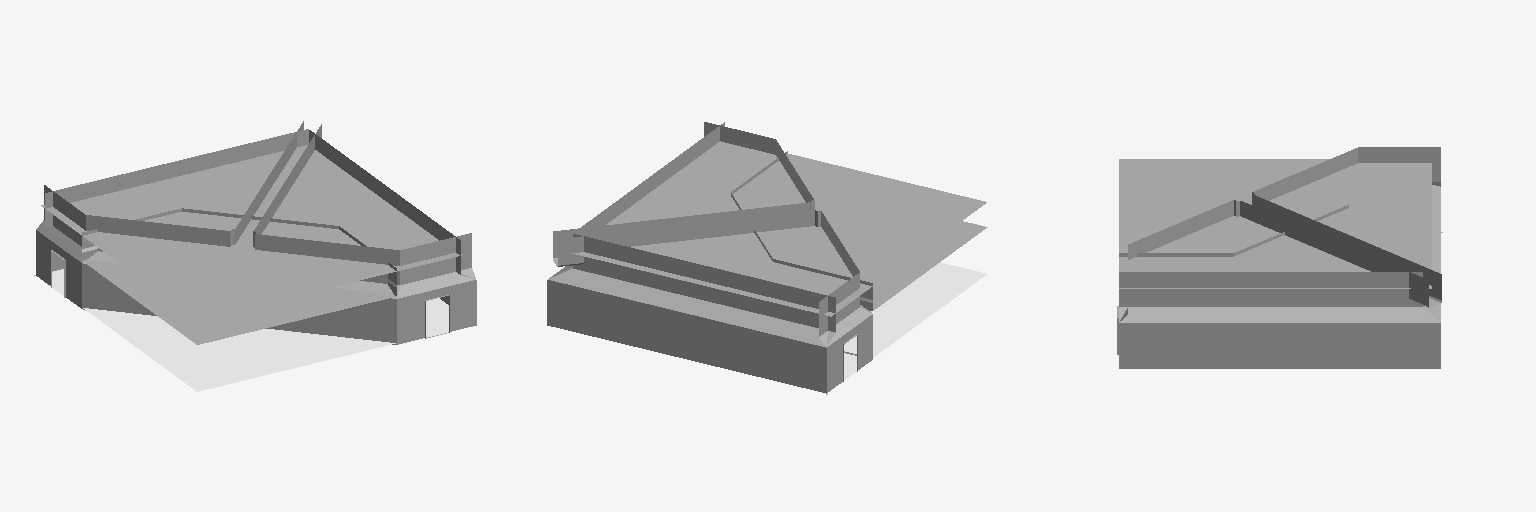
File: Corner-Type-0.obj
3 views of the same model, side by side, from view 1: azimuth 30°, elevation 25°; view 2: azimuth 150°, elevation 25°; view 3: azimuth 270°, elevation 25° (orthographic).
Parts seen in each view (by area): view 1: Corner-Type-0; view 2: Corner-Type-0; view 3: Corner-Type-0.
Boxes of the visible parts, x1,y1,x2,y2 form: Corner-Type-0: [34, 121, 476, 391]; Corner-Type-0: [547, 122, 987, 394]; Corner-Type-0: [1117, 147, 1442, 368].
Size of the model in its own units: 17.66 by 5.35 by 17.7.